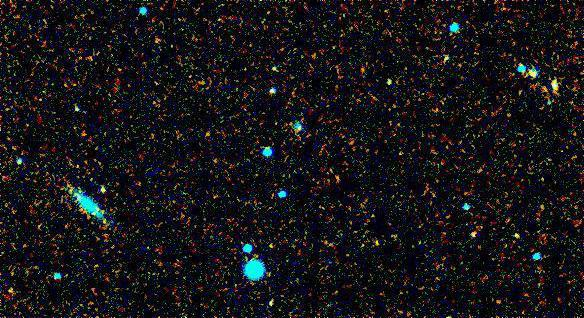star: (496, 221, 526, 251)
